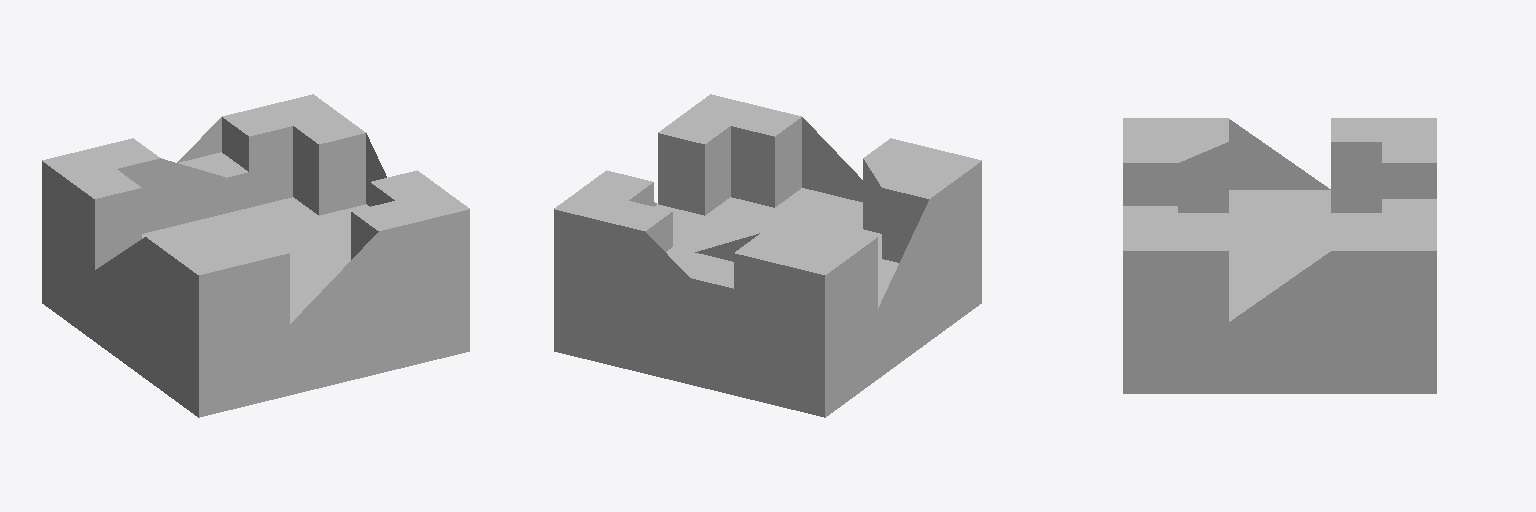
File: tower1.obj
3 renders of one model, left to right at view 1: azimuth 30°, elevation 25°; view 2: azimuth 150°, elevation 25°; view 3: azimuth 270°, elevation 25°, orthographic.
Parts seen in each view (by area): view 1: Kostka_Kostka.001; view 2: Kostka_Kostka.001; view 3: Kostka_Kostka.001.
Part boxes in pixels (left/top/right/bottom): Kostka_Kostka.001: left=42, top=94, right=469, bottom=417; Kostka_Kostka.001: left=554, top=94, right=981, bottom=417; Kostka_Kostka.001: left=1123, top=118, right=1436, bottom=393.
Size of the model in its own units: 2 by 1 by 2.